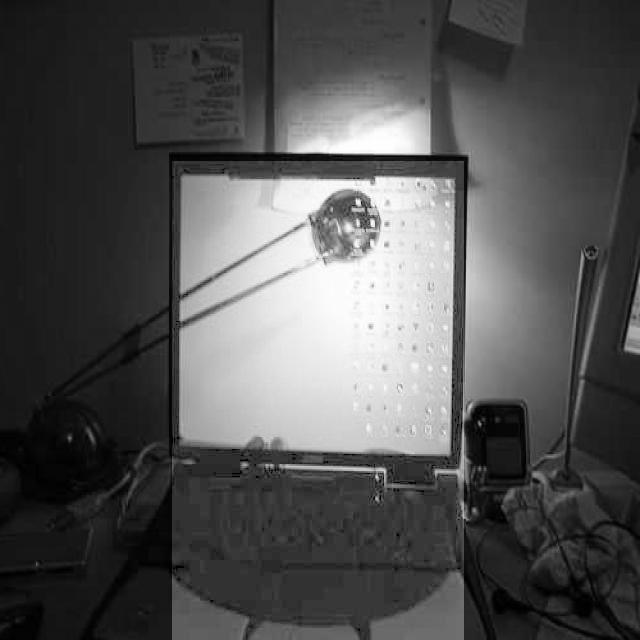-keyboard-: (172, 161, 464, 640)
